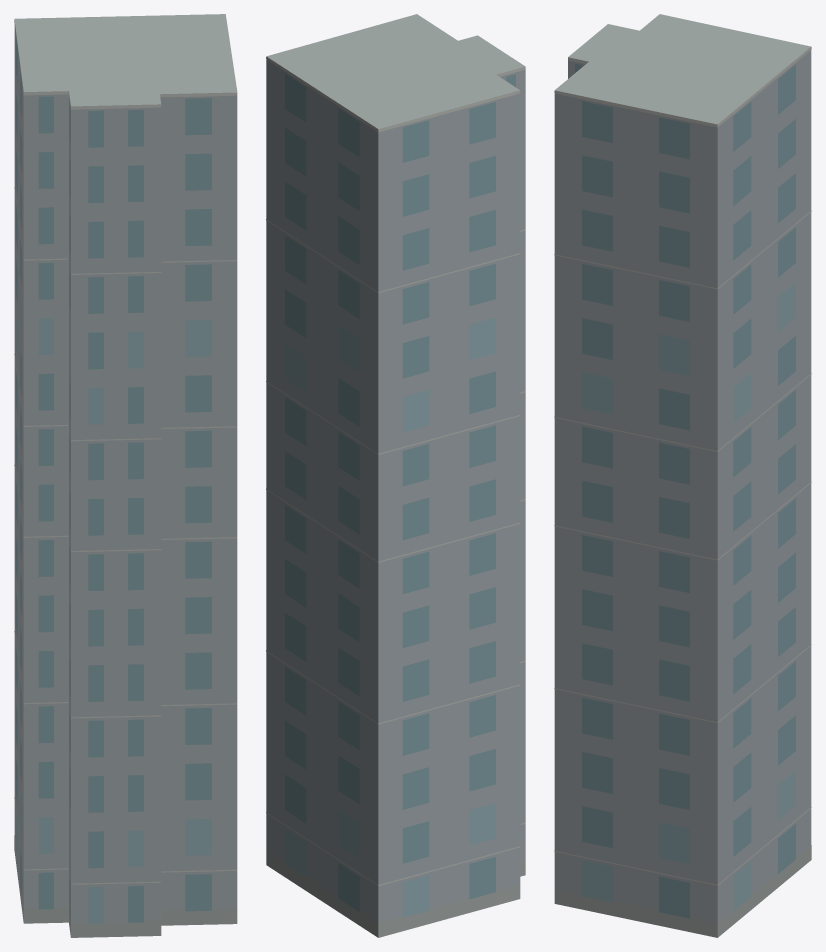
Rendered from survey-upis-32553724.glb.
3 renders of one model, left to right at view 1: azimuth 30°, elevation 25°; view 2: azimuth 150°, elevation 25°; view 3: azimuth 270°, elevation 25°, orthographic. The views are drawn at different scales.
Visible parts, largest first — view 1: survey-upis-32553724.tmp; view 2: survey-upis-32553724.tmp; view 3: survey-upis-32553724.tmp.
Boxes of the visible parts, x1=… form: survey-upis-32553724.tmp: x1=14, y1=14, x2=237, y2=937; survey-upis-32553724.tmp: x1=266, y1=14, x2=525, y2=937; survey-upis-32553724.tmp: x1=554, y1=14, x2=811, y2=937.
Size of the model in its own units: 18.1 by 62.05 by 17.78.
